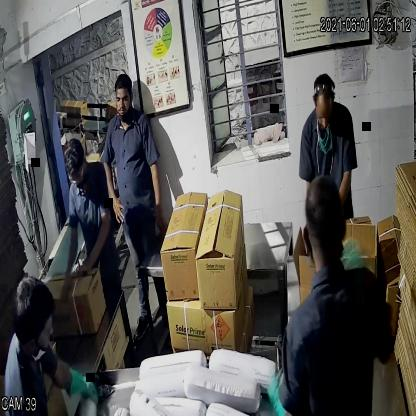no_goggles: (312, 105, 339, 128), (112, 93, 135, 109)
